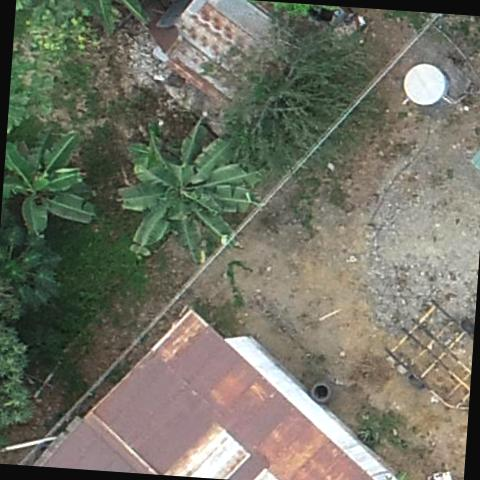Banana-plant: (103, 104, 272, 266), (0, 126, 102, 248)
